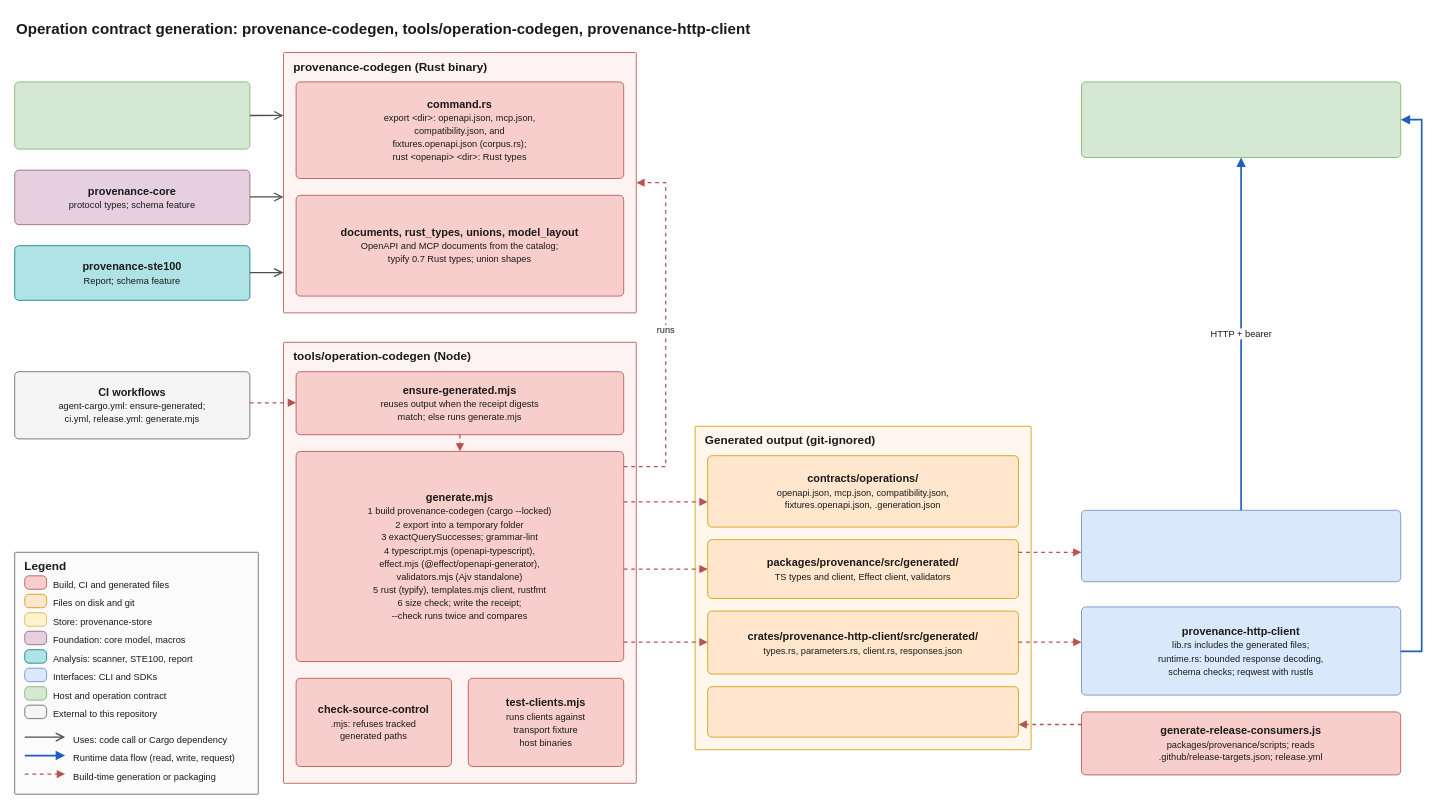
Some shapes in this 1444 by 809 pixel diagram are drawn without their labels. Each missing label, with the centre of its shape:
packages/provenance TypeScript SDK and Effect client (diagram 12): (x=1241, y=545)
packages/provenance/src/engine-packages.ts engine package names per platform: (x=862, y=711)
provenance-contract definitions(); uses the provenance-store schema feature: (x=132, y=115)
provenance-transport host serves the catalog routes over HTTP (diagram 04): (x=1241, y=119)
